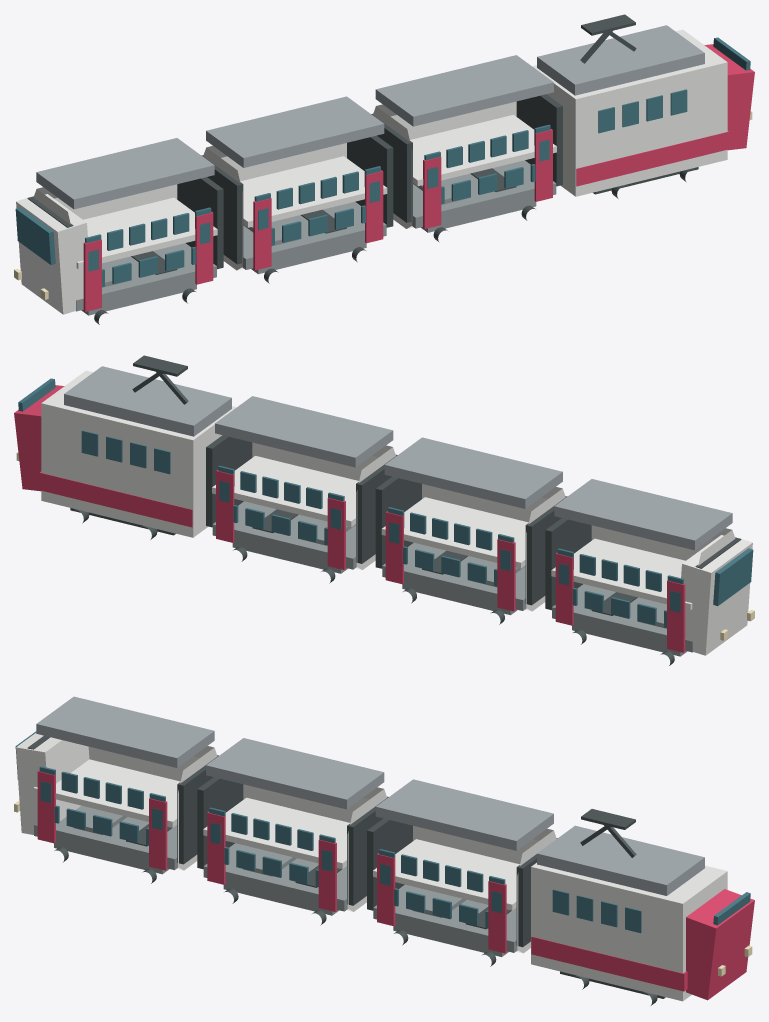
Rendered from desiro-hc.glb.
The picture shows the model from 3 angles, top to bottom: view 1: azimuth 30°, elevation 25°; view 2: azimuth 150°, elevation 25°; view 3: azimuth 330°, elevation 25°; orthographic projection.
Parts seen in each view (by area): view 1: high_capacity_end_car, desiro-hc_car_1_roof, desiro-hc_car_2_roof, desiro-hc_car_3_roof, roof, desiro-hc_car_3_tail_cab_face, desiro-hc_car_1_window_divider, desiro-hc_car_2_window_divider, desiro-hc_car_3_window_divider, desiro-hc_car_2_lower_skirt, red_belt, desiro-hc_car_1_lower_skirt (+21 smaller); view 2: high_capacity_end_car, desiro-hc_car_1_roof, desiro-hc_car_2_roof, desiro-hc_car_3_roof, roof, desiro-hc_car_3_tail_cab_face, desiro-hc_car_1_window_divider, desiro-hc_car_2_window_divider, desiro-hc_car_3_window_divider, desiro-hc_car_2_lower_skirt, red_belt, desiro-hc_car_1_lower_skirt (+21 smaller); view 3: high_capacity_end_car, desiro-hc_car_1_roof, desiro-hc_car_2_roof, desiro-hc_car_3_roof, roof, desiro_hc_red_nose, desiro-hc_car_2_window_divider, desiro-hc_car_1_window_divider, desiro-hc_car_3_window_divider, desiro-hc_car_3_tail_cab_face, red_belt, desiro-hc_car_2_lower_skirt (+20 smaller).
Boxes of the visible parts, x1,y1,x2,y2 form: high_capacity_end_car: (532, 29, 727, 196); desiro-hc_car_1_roof: (375, 55, 553, 126); desiro-hc_car_2_roof: (206, 96, 384, 167); desiro-hc_car_3_roof: (36, 138, 214, 209); roof: (537, 25, 704, 95); desiro-hc_car_3_tail_cab_face: (16, 194, 87, 314); desiro-hc_car_1_window_divider: (410, 115, 556, 186); desiro-hc_car_2_window_divider: (240, 156, 387, 227); desiro-hc_car_3_window_divider: (76, 197, 217, 269); desiro-hc_car_2_lower_skirt: (242, 201, 386, 269); red_belt: (576, 130, 729, 186); desiro-hc_car_1_lower_skirt: (412, 160, 556, 228); high_capacity_end_car: (41, 370, 236, 537); desiro-hc_car_1_roof: (215, 396, 393, 467); desiro-hc_car_2_roof: (384, 437, 562, 508); desiro-hc_car_3_roof: (554, 479, 732, 550); roof: (64, 366, 231, 436); desiro-hc_car_3_tail_cab_face: (681, 535, 752, 655); desiro-hc_car_1_window_divider: (212, 456, 358, 527); desiro-hc_car_2_window_divider: (381, 497, 528, 568); desiro-hc_car_3_window_divider: (551, 538, 692, 610); desiro-hc_car_2_lower_skirt: (382, 542, 526, 610); red_belt: (39, 471, 192, 527); desiro-hc_car_1_lower_skirt: (212, 501, 356, 569); high_capacity_end_car: (531, 862, 727, 1001); desiro-hc_car_1_roof: (375, 779, 553, 850); desiro-hc_car_2_roof: (206, 738, 384, 809); desiro-hc_car_3_roof: (36, 696, 214, 767); roof: (537, 825, 704, 895); desiro_hc_red_nose: (686, 889, 754, 1000); desiro-hc_car_2_window_divider: (203, 797, 349, 869); desiro-hc_car_1_window_divider: (373, 839, 519, 910); desiro-hc_car_3_window_divider: (33, 759, 180, 827); desiro-hc_car_3_tail_cab_face: (16, 733, 89, 834); red_belt: (531, 936, 687, 991); desiro-hc_car_2_lower_skirt: (203, 843, 347, 911).
Bounding box in the file's own units: 6.76 × 1.44 × 0.791.
